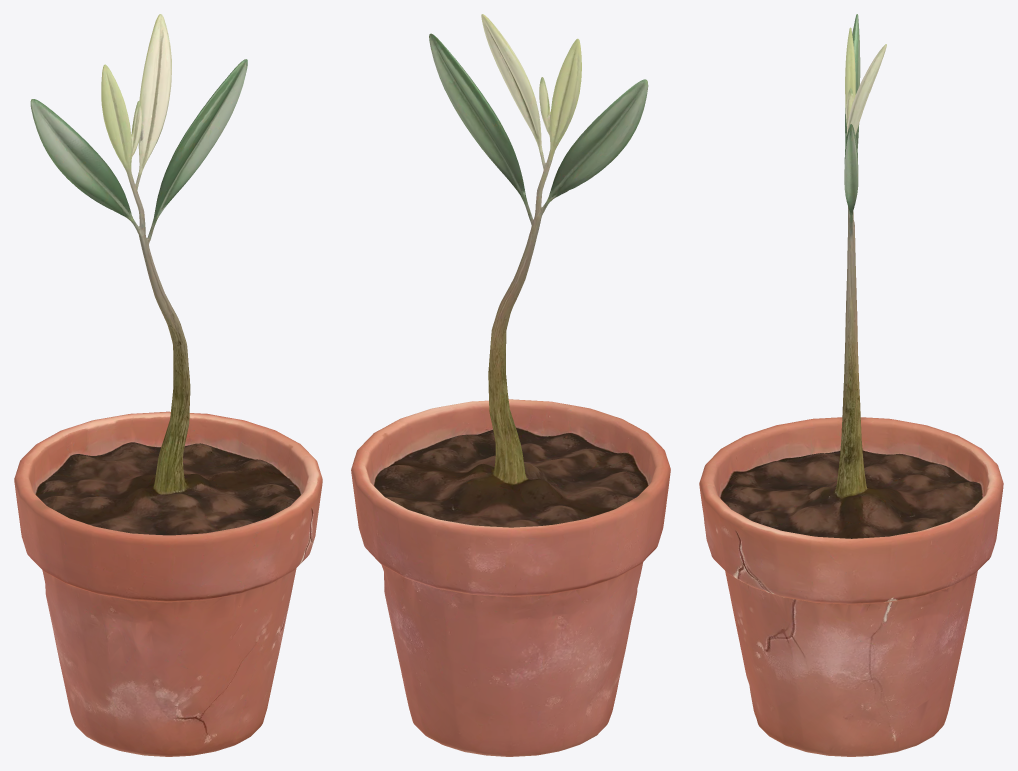
The model's file is seedling.glb.
3 views of the same model, side by side, from view 1: azimuth 30°, elevation 25°; view 2: azimuth 150°, elevation 25°; view 3: azimuth 270°, elevation 25° (orthographic). The views are drawn at different scales.
Bounding box in the file's own units: 0.7735 × 1.9 × 0.7704.
1 material, 1 textured.
